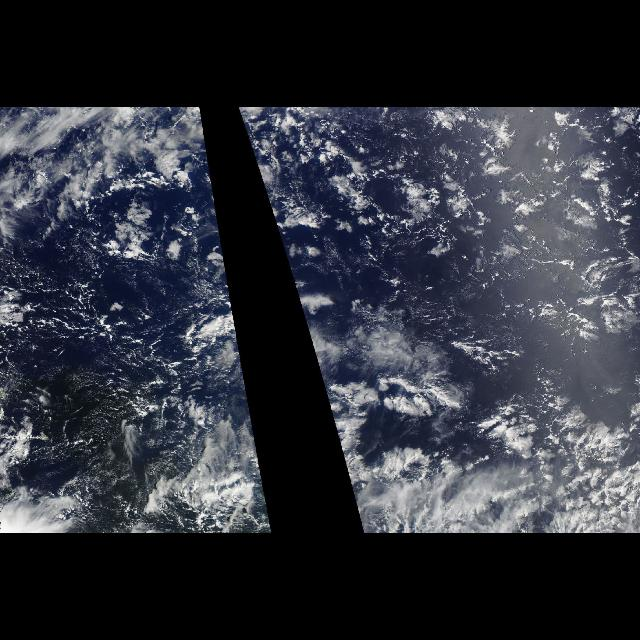Gravel: (241, 119, 639, 321), (18, 264, 184, 388)
Sugar: (2, 312, 202, 500)
